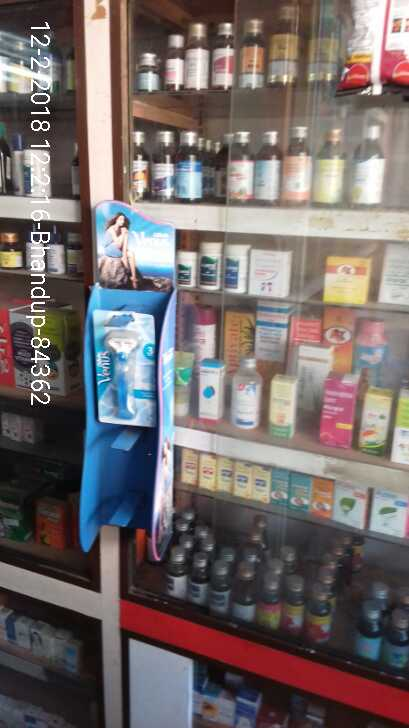beauty: (91, 307, 153, 426)
